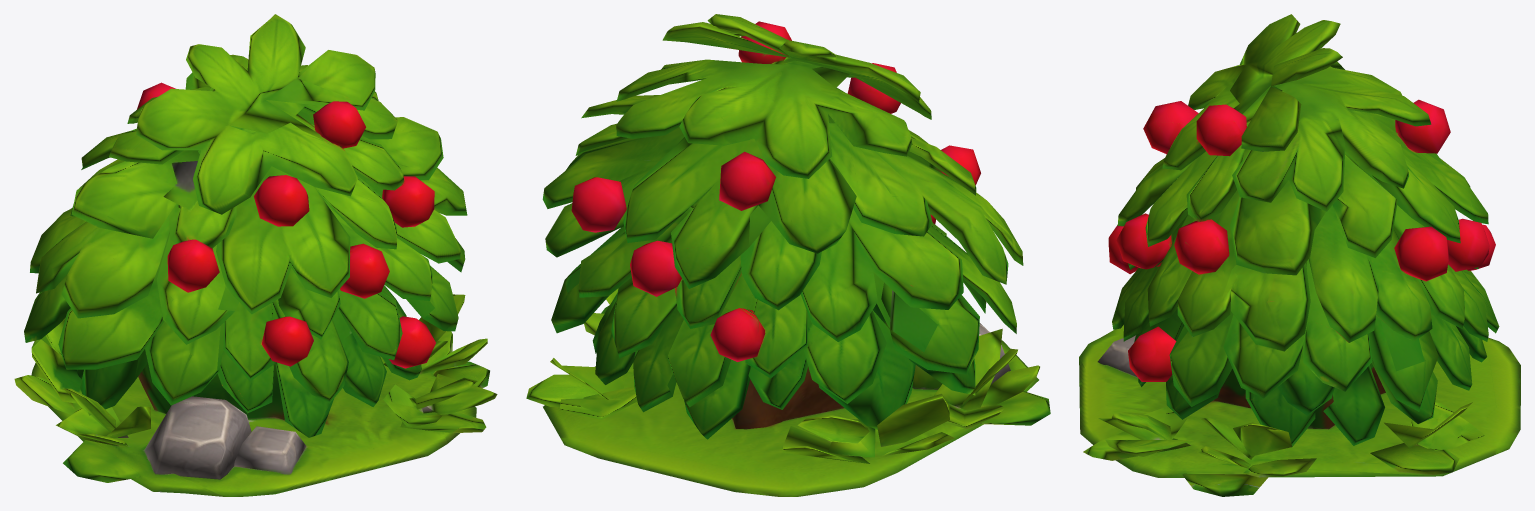
File: etapa100.glb
3 views of the same model, side by side, from view 1: azimuth 30°, elevation 25°; view 2: azimuth 150°, elevation 25°; view 3: azimuth 270°, elevation 25° (orthographic). The views are drawn at different scales.
Bounding box in the file's own units: 1 × 0.8217 × 0.8854.
Materials: 1 (1 with a texture image).
